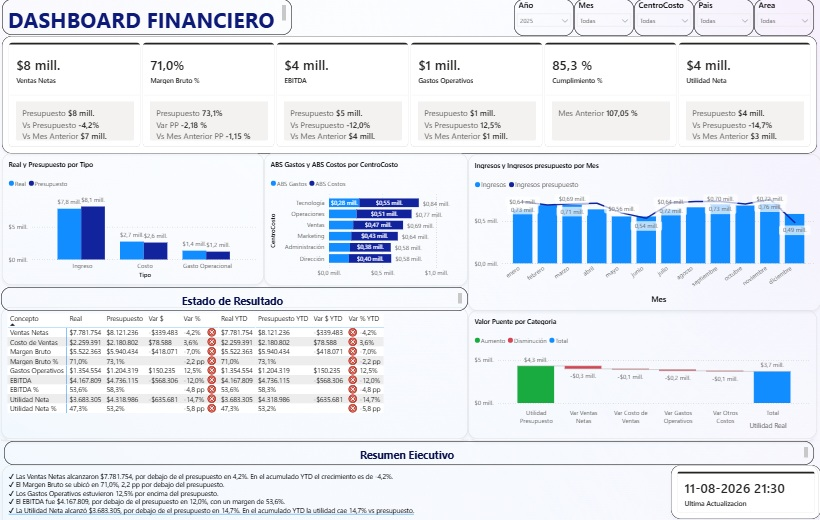

Layout of this report page (visuals, bound fields, positions):
{"tool":"powerbi","page":{"name":"Página 1","canvas":[1650,1050],"ordinal":0},"visuals":[{"type":"cardVisual","fields":{"Data":["FactFinanzasRaw.Ventas Netas Real","FactFinanzasRaw.Margen Bruto % Real","FactFinanzasRaw.EBITDA Real","FactFinanzasRaw.Gastos Operativos Real","Medidas.Cumplimiento %","FactFinanzasRaw.Utilidad Neta Real"]},"box":[11.7,73.3,1630,235],"z":0},{"type":"clusteredColumnChart","fields":{"Category":["DimCuentas.Tipo"],"Y":["Medidas.ABS Monto Real","Medidas.ABS Monto Presupuesto"]},"box":[11,307,469,266],"z":1000},{"type":"lineClusteredColumnComboChart","fields":{"Category":["Calendario.Mes"],"Y":["Medidas.Ingresos"],"Y2":["Medidas.Ingresos presupuesto"]},"box":[480,307,705,266],"z":2000},{"type":"slicer","fields":{"Values":["Calendario.Mes"]},"box":[1155,0,120,74.3],"z":3000},{"type":"slicer","fields":{"Values":["DimCentroCosto.CentroCosto"]},"box":[1275,0,120,74.3],"z":4000},{"type":"slicer","fields":{"Values":["DimCentroCosto.Pais"]},"box":[1395,0,120,74.3],"z":5000},{"type":"slicer","fields":{"Values":["DimCentroCosto.Area"]},"box":[1515,0,120,74.3],"z":6000},{"type":"barChart","fields":{"Category":["DimCentroCosto.CentroCosto"],"Y":["Medidas.ABS Gastos","Medidas.ABS Costos"]},"box":[1186,308,456,266],"z":7000},{"type":"waterfallChart","fields":{"Category":["PuenteUtilidad.Categoria"],"Y":["FactFinanzasRaw.Valor Puente"]},"box":[861.4,621.4,780,258],"z":8000},{"type":"pivotTable","fields":{"Rows":["Conceptos.Concepto"],"Values":["FactFinanzasRaw.Valor Real","FactFinanzasRaw.Valor Presupuesto","FactFinanzasRaw.Valor Var $","FactFinanzasRaw.Valor Var %","FactFinanzasRaw.Valor Real YTD","FactFinanzasRaw.Valor Presupuesto YTD","FactFinanzasRaw.Valor Var $ YTD","FactFinanzasRaw.Valor Var % YTD"]},"box":[10,615,850,265],"z":9000},{"type":"textbox","box":[1501.4,837.1,98,30],"z":10000},{"type":"cardVisual","fields":{"Data":["Min(UltimaActualizacion.UltimaActualizacion)"]},"box":[1350,928.3,300,108.3],"z":11000},{"type":"textbox","box":[12,0,580,72],"z":12000},{"type":"slicer","fields":{"Values":["Calendario.Año"]},"box":[1035,0,120,74.3],"z":13000},{"type":"textbox","box":[10,575,850,48.3],"z":14000},{"type":"textbox","box":[12.5,927.5,1632.5,132.5],"z":15000},{"type":"textbox","box":[15,880,1620,48],"z":16002}]}

Visuals, with their boxes in screenshot pixels (x1, y1, x2, y2), scaled from the page's 1650x1050 canvas onto the 820x520 screenshot:
cardVisual - FactFinanzasRaw.Ventas Netas Real x FactFinanzasRaw.Margen Bruto % Real: [6, 36, 816, 153]
clusteredColumnChart - DimCuentas.Tipo x Medidas.ABS Monto Real: [5, 152, 239, 284]
lineClusteredColumnComboChart - Calendario.Mes x Medidas.Ingresos: [239, 152, 589, 284]
slicer - Calendario.Mes: [574, 0, 634, 37]
slicer - DimCentroCosto.CentroCosto: [634, 0, 693, 37]
slicer - DimCentroCosto.Pais: [693, 0, 753, 37]
slicer - DimCentroCosto.Area: [753, 0, 813, 37]
barChart - DimCentroCosto.CentroCosto x Medidas.ABS Gastos: [589, 153, 816, 284]
waterfallChart - PuenteUtilidad.Categoria x FactFinanzasRaw.Valor Puente: [428, 308, 816, 436]
pivotTable - Conceptos.Concepto x FactFinanzasRaw.Valor Real: [5, 305, 427, 436]
textbox: [746, 415, 795, 429]
cardVisual - Min(UltimaActualizacion.UltimaActualizacion): [671, 460, 819, 513]
textbox: [6, 0, 294, 36]
slicer - Calendario.Año: [514, 0, 574, 37]
textbox: [5, 285, 427, 309]
textbox: [6, 459, 818, 519]
textbox: [7, 436, 813, 460]
